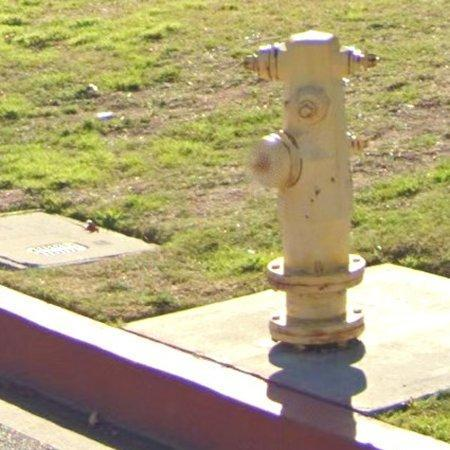a fire hydrant: (249, 30, 367, 347)
